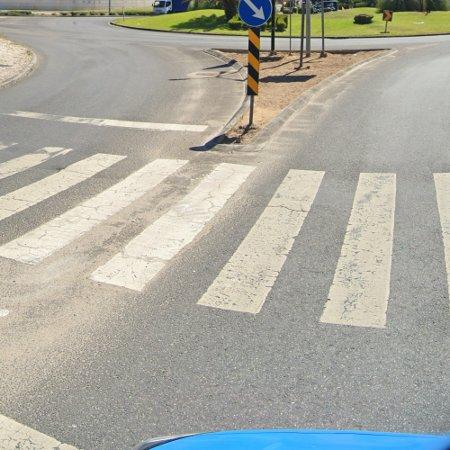crosswalks: (0, 138, 450, 335)
